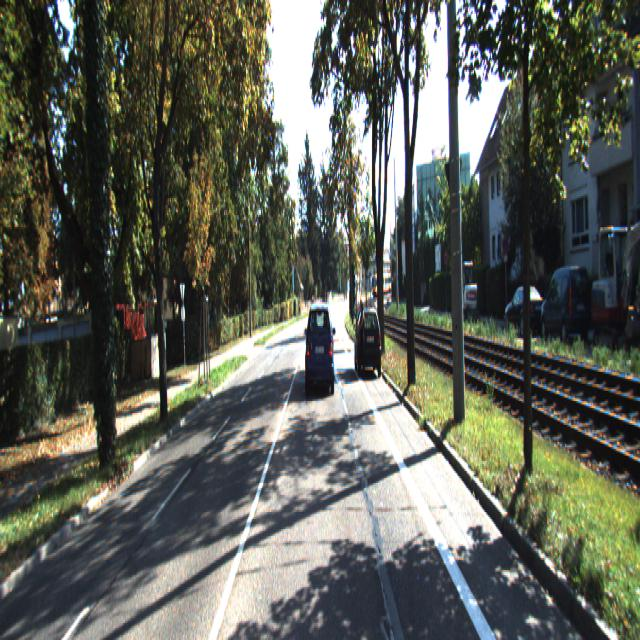Car: (591, 220, 633, 347), (541, 261, 593, 343), (305, 299, 336, 397), (506, 283, 548, 337), (354, 306, 382, 377), (461, 260, 477, 318)
